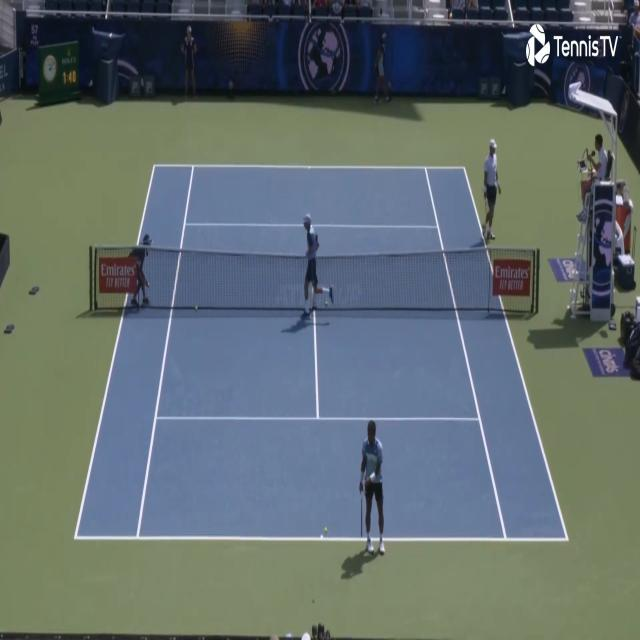tennis-player: (357, 418, 386, 556), (480, 137, 502, 241)
